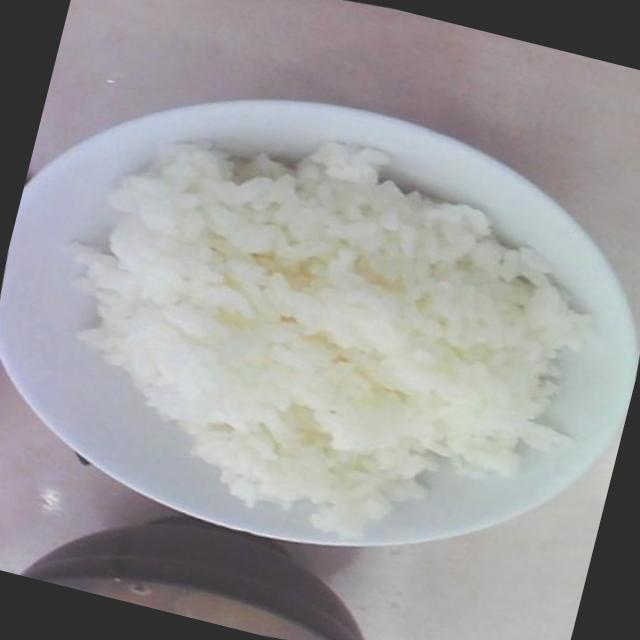Rice: (47, 94, 589, 540)
